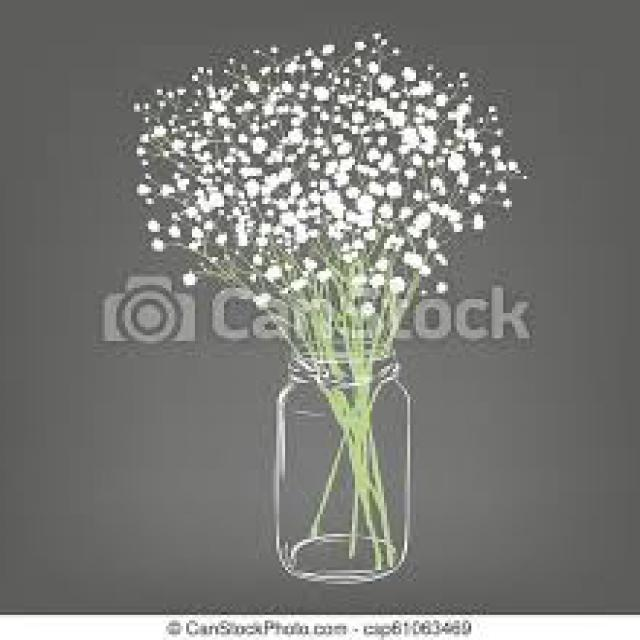gypsophila: (123, 51, 552, 296)
